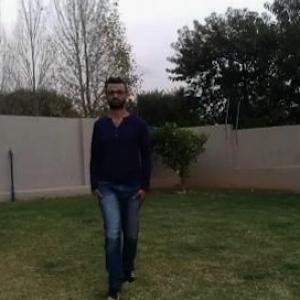follow: (97, 92, 146, 286)
